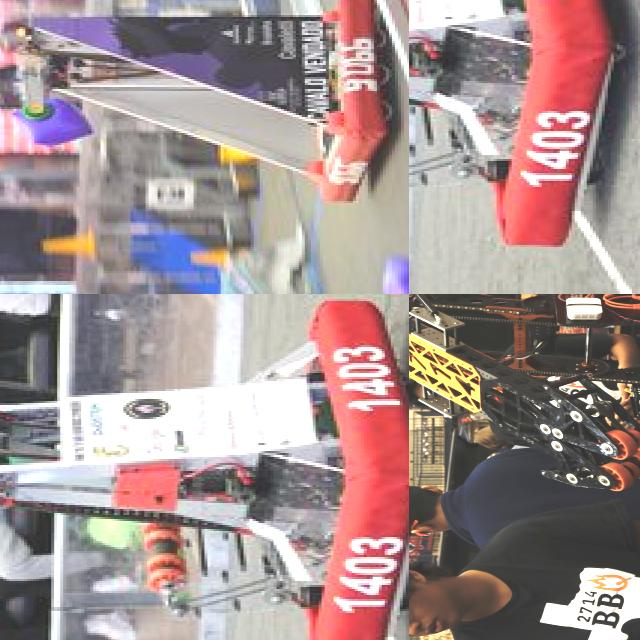FRC-Robots: (0, 294, 409, 640), (409, 294, 640, 640), (0, 0, 384, 189), (409, 0, 640, 254)
